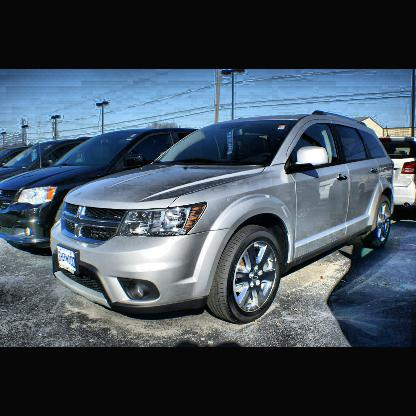Dodge Journey SUV 2012: (51, 110, 395, 325)
